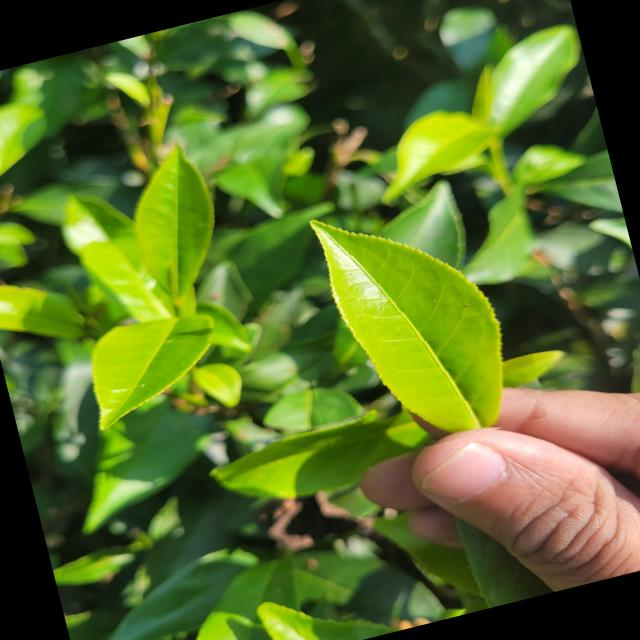Catagory A(1-2 days): (267, 168, 547, 470)
